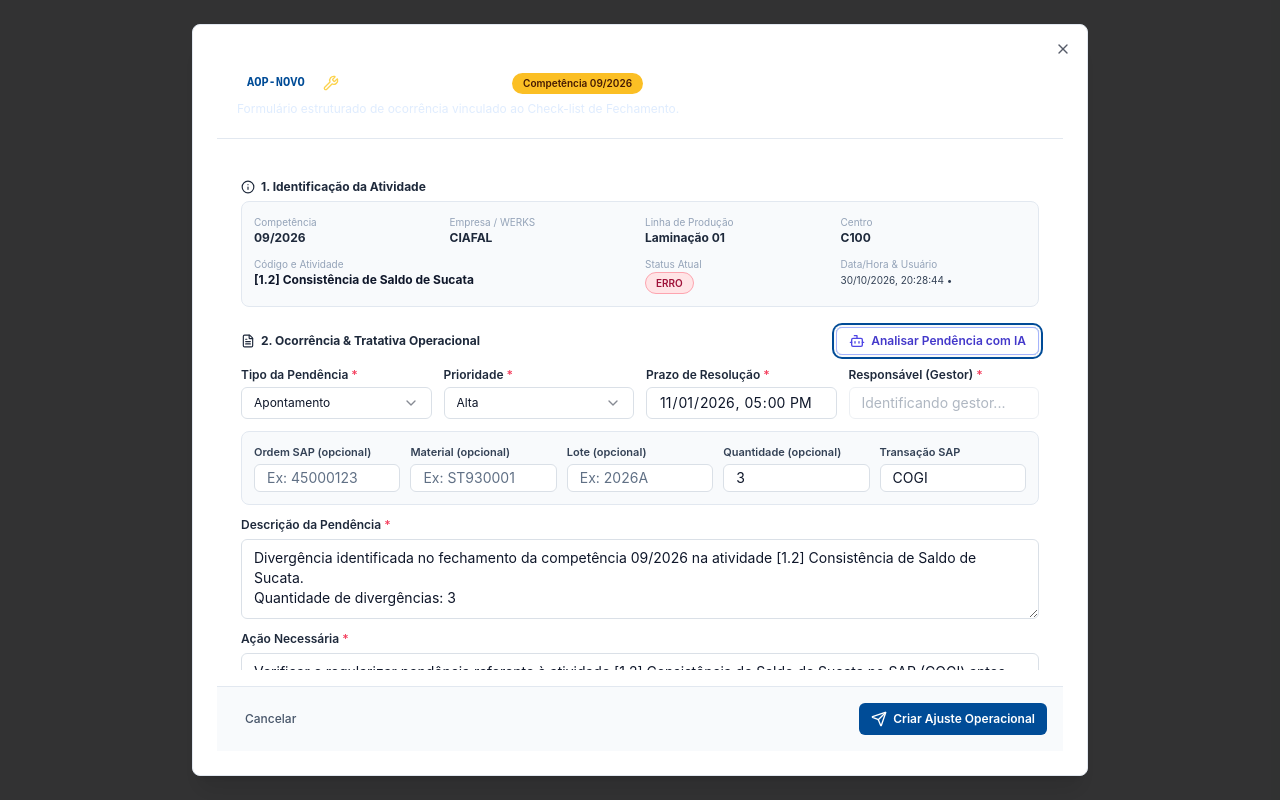
Test: Check-list Fechamento — Ajuste Operacional (Interface Etapa 2) › 4. Botão "Analisar Pendência com IA" aciona o service e apresenta diagnóstico com causas e próximos passos
This screenshot has width=1280, height=800.
Click the button "Analisar Pendência com IA": coordinates (938, 340) [836,326,1039,354]
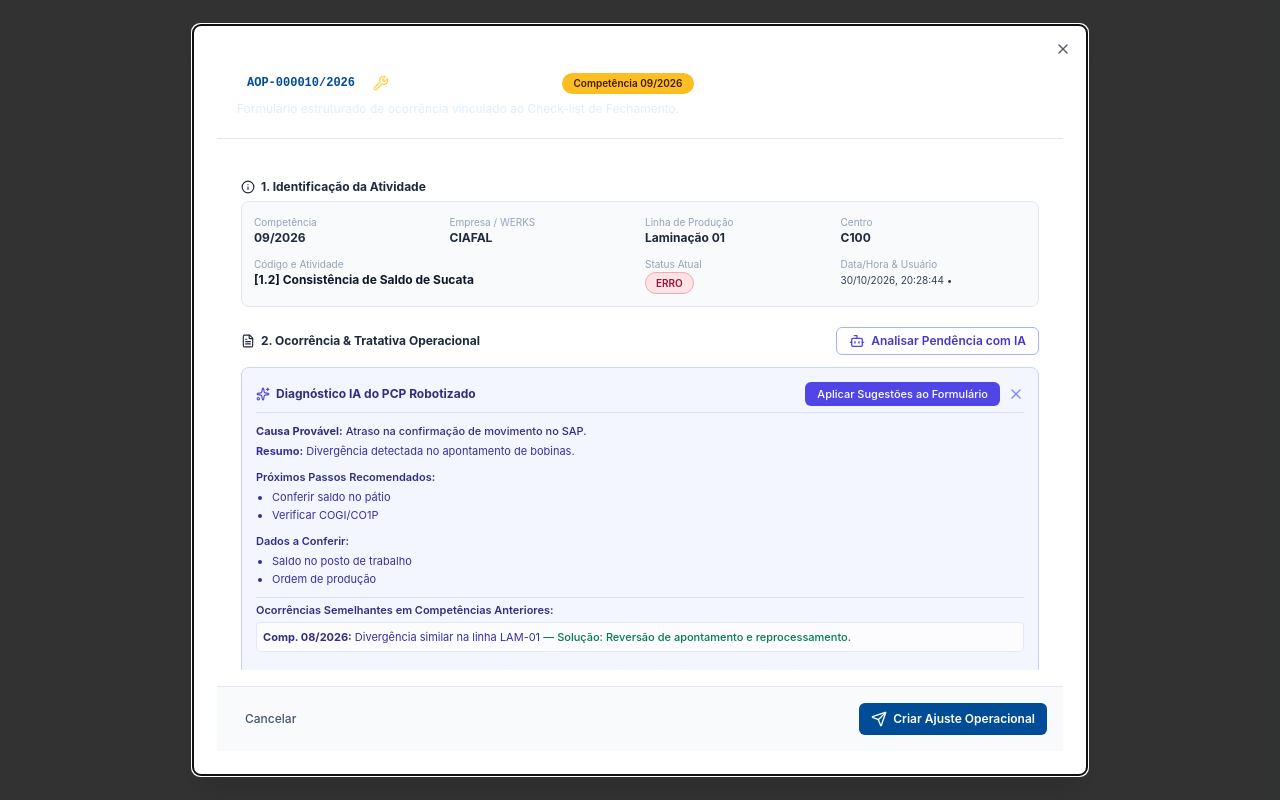
Expected: the text "Diagnóstico IA do PCP Robotizado" is shown, [256,386,476,402]
Expected: the text "Causa Provável: Atraso na confirmação de movimento no SAP." is shown, [256,424,587,438]
